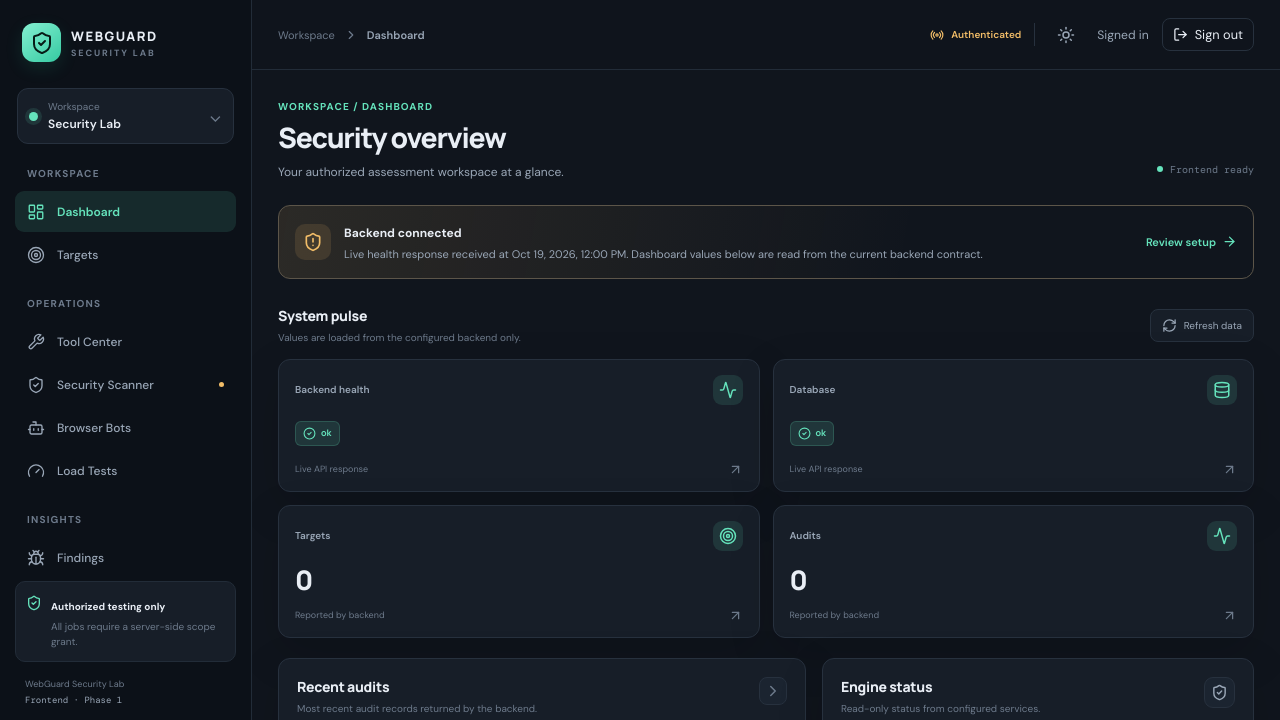
it: WebGuard Security Lab frontend › supports sidebar navigation to Targets
Click the link "Targets" at (63, 254), box [27,246,98,264]
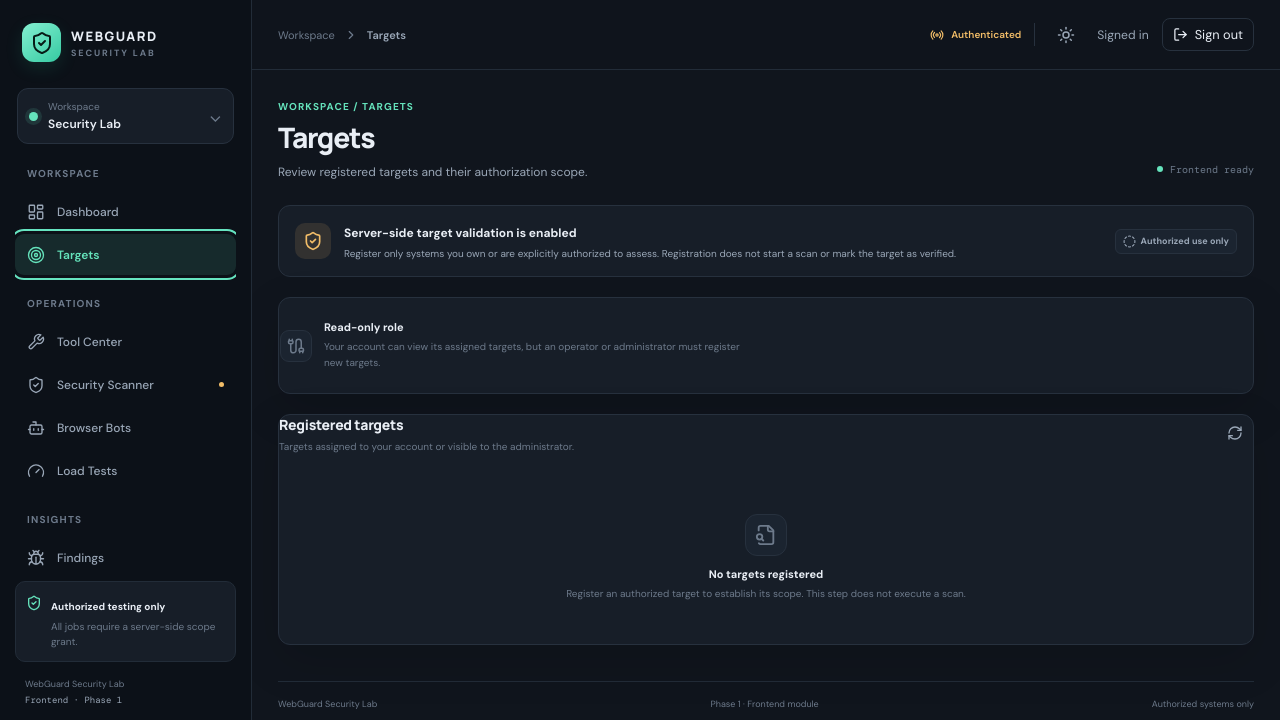
Expected: the heading "Registered targets" is shown, [279,415,403,434]
Expected: the heading "No targets registered" is shown, [709,567,823,581]
